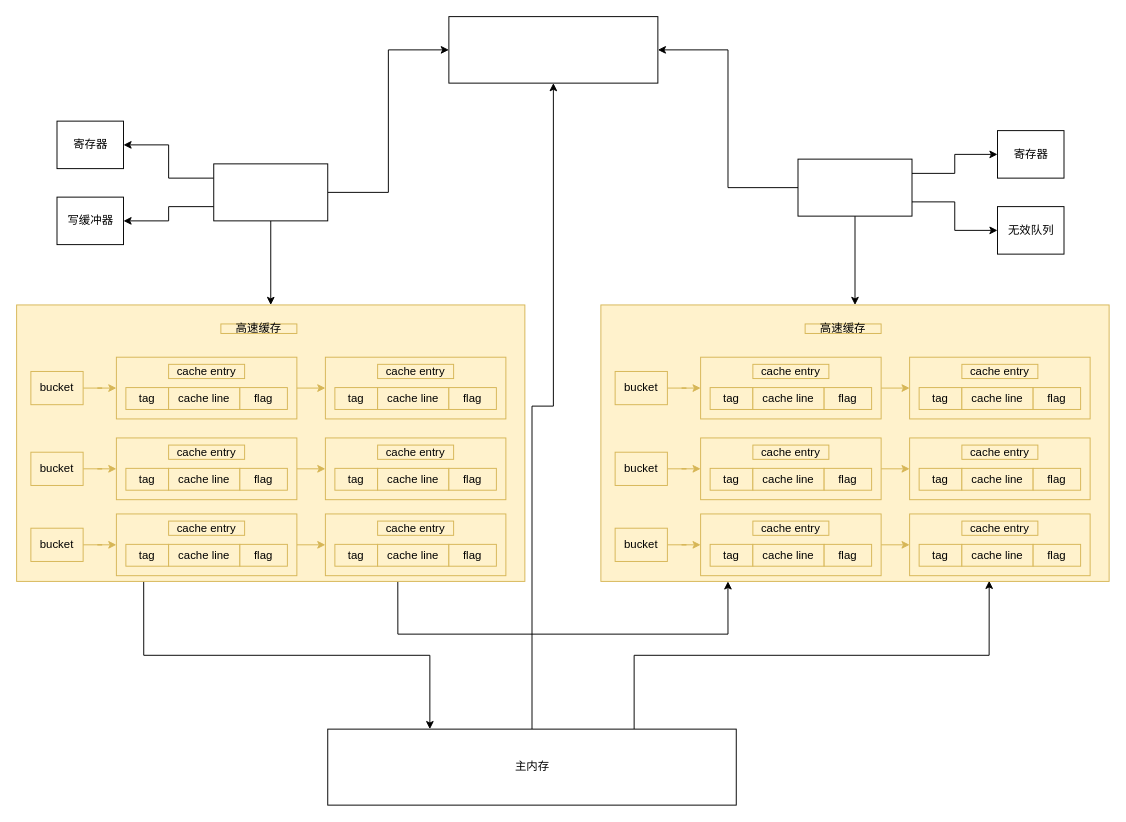
Image size: 1126x822. Some labels were removed from this diagram. The centre of each missing label's shape, as x and y in pixels:
"处理器0" goes at (x=270, y=192).
"处理器1" goes at (x=854, y=187).
"总线" goes at (x=553, y=49).
